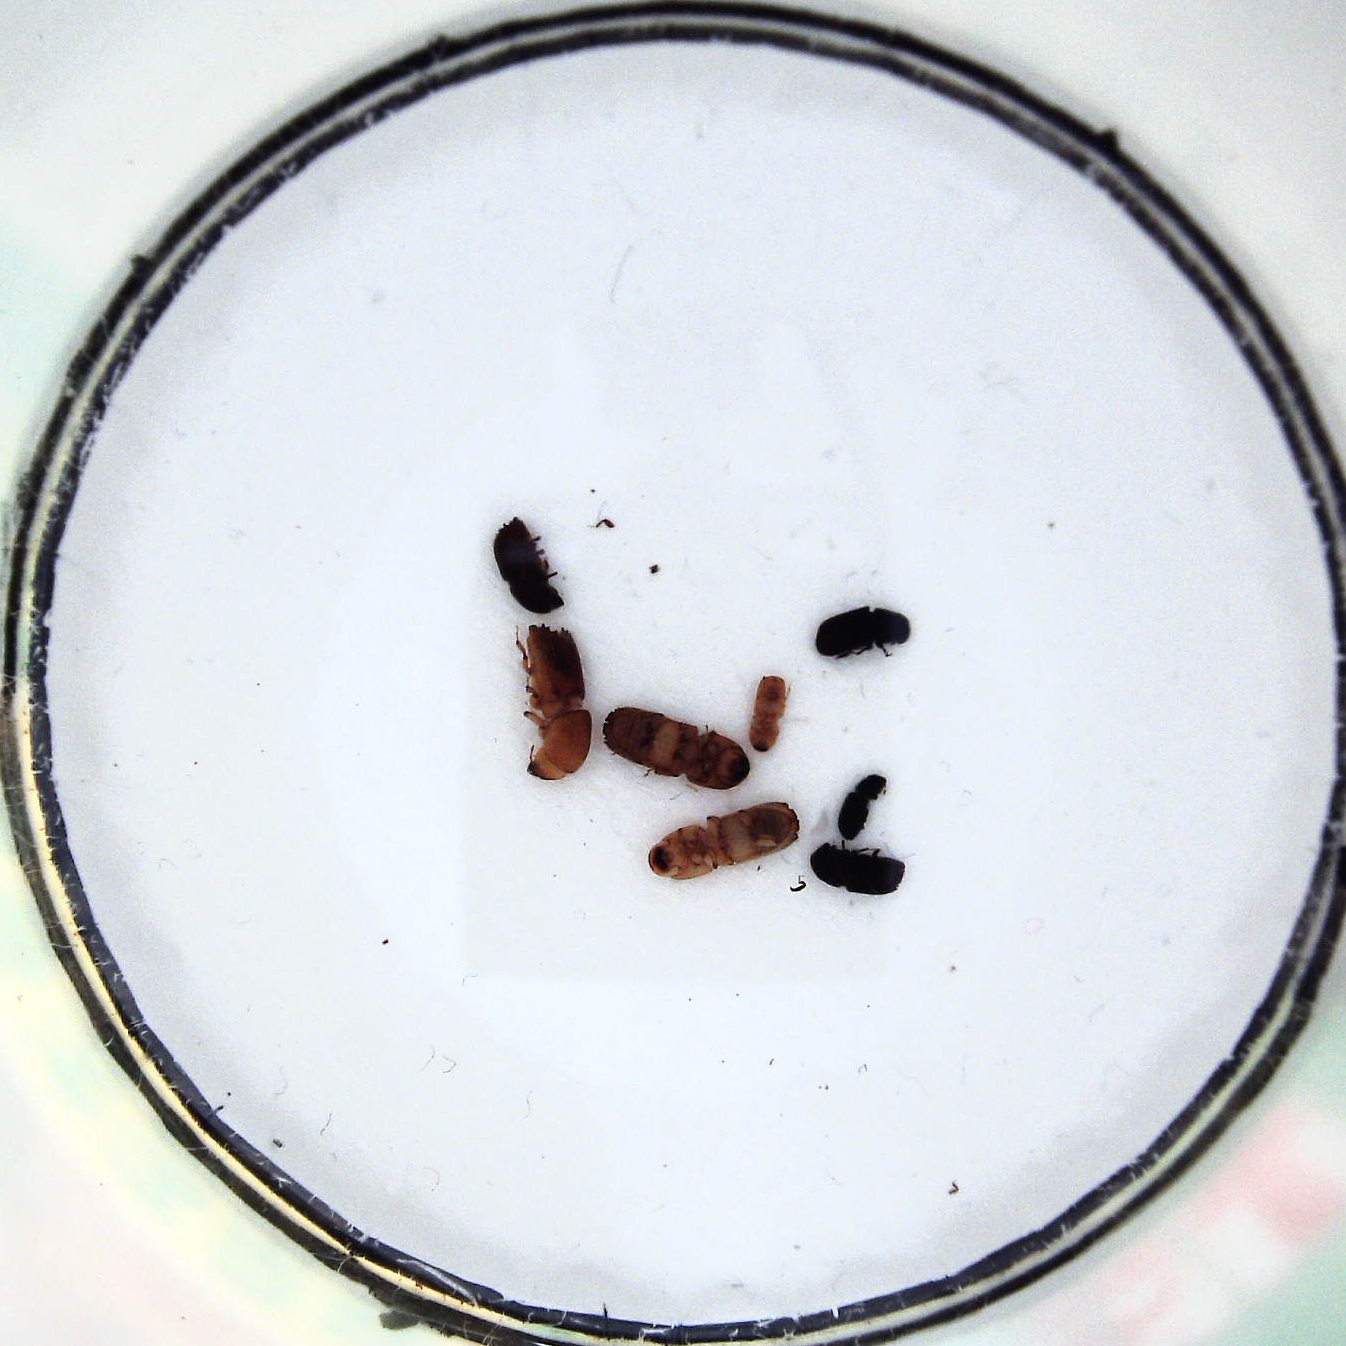Linnaeus: (513, 622, 593, 780), (602, 708, 751, 789), (647, 802, 801, 880), (491, 512, 567, 614), (809, 839, 906, 894)
acuminatus: (751, 675, 790, 756)
armandi: (814, 604, 912, 659)
coleoptera: (836, 773, 887, 842)
